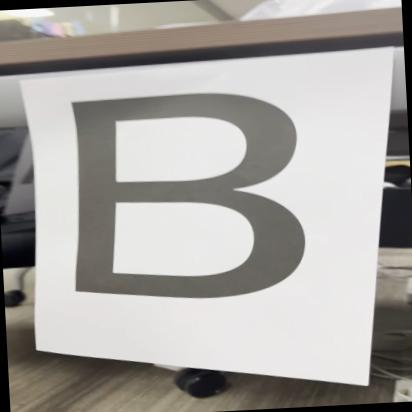seat: (54, 85, 324, 312)
